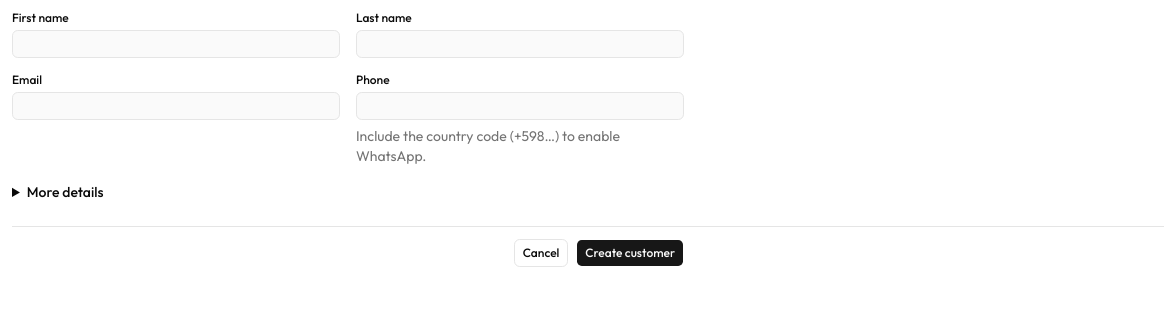
Test: CustomerForm › shows field errors, sets aria-invalid and keeps what was typed
The width and height of the screenshot is (1164, 310).
Type "nope" into the field labelled "Email" at (176, 106), box [12,92,340,120]
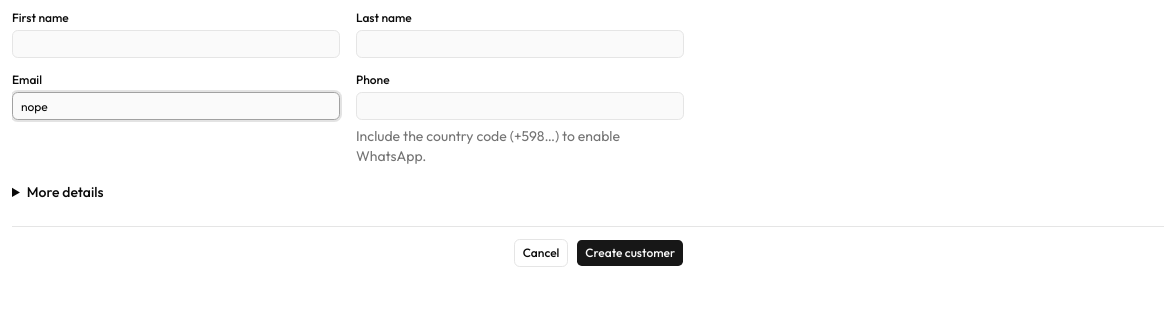
Type "Pérez" into the field labelled "Last name" at (520, 44), box [356,30,684,58]
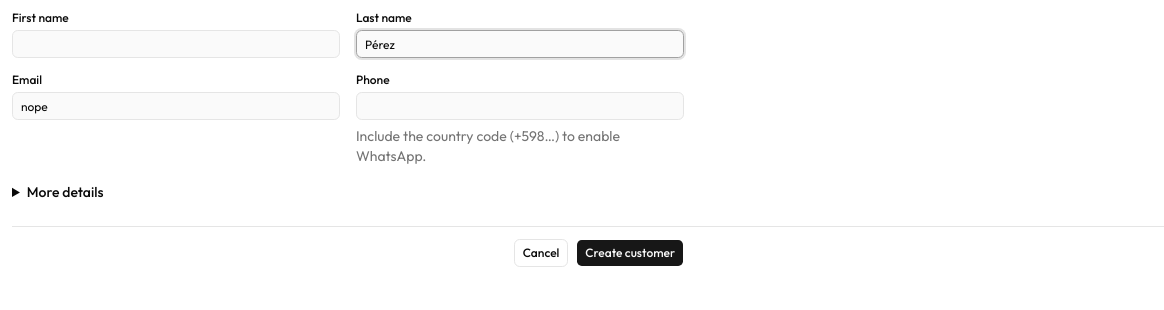
Click the button "Create customer" at (630, 253), box [576,239,684,267]
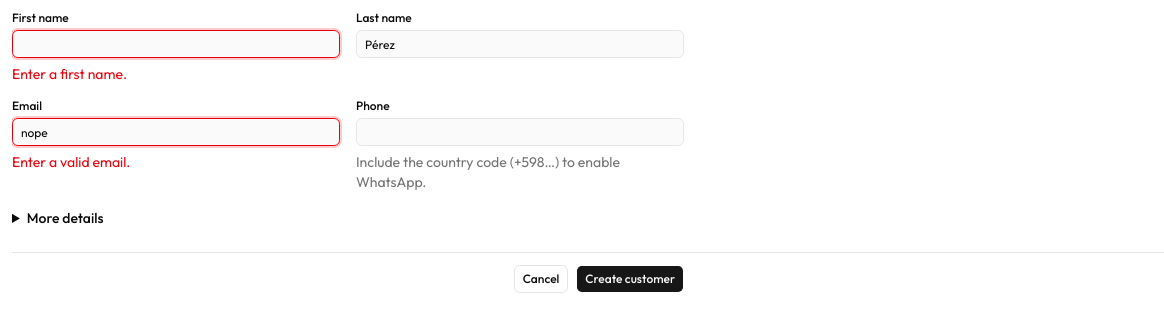
Expected: the text "Enter a first name." is shown, [12,65,127,83]
Expected: the text "Enter a valid email." is shown, [12,153,130,171]
